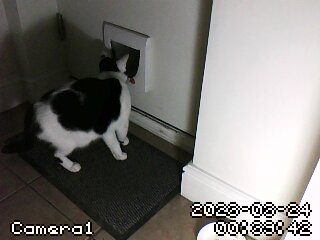bad: (15, 49, 146, 176)
